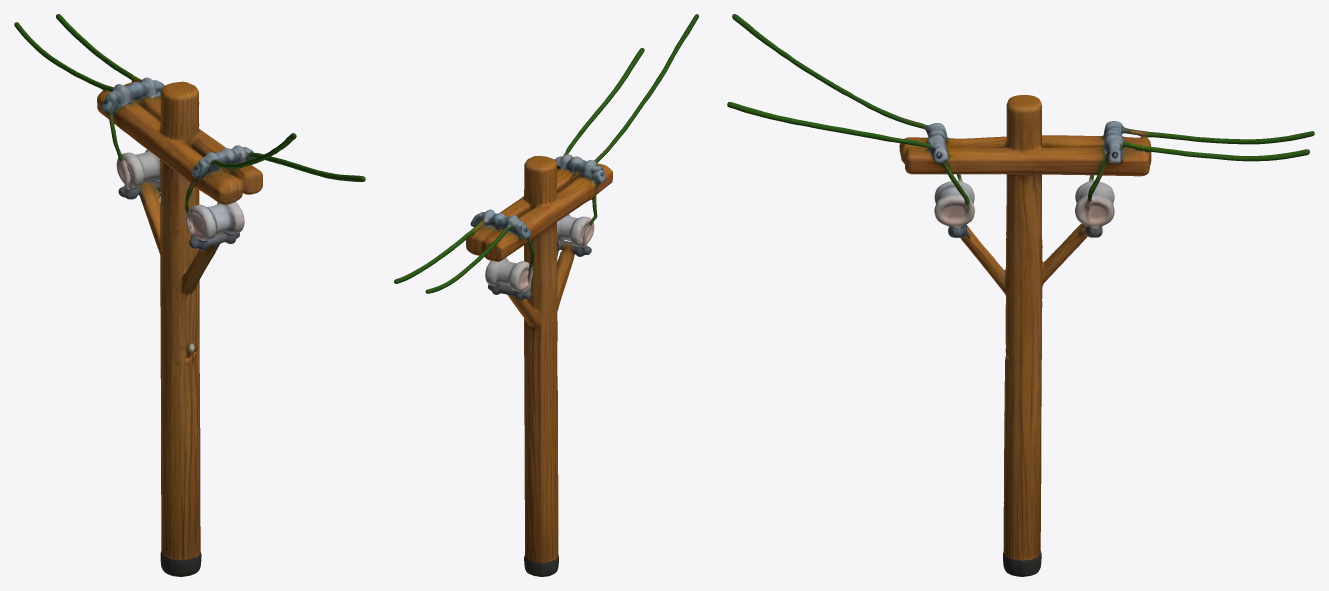
The model's file is power_pole.glb.
3 renders of one model, left to right at view 1: azimuth 30°, elevation 25°; view 2: azimuth 150°, elevation 25°; view 3: azimuth 270°, elevation 25°, orthographic. The views are drawn at different scales.
Visible parts, largest first — view 1: tripo_node_9744f6ce-e2b4-4241-9c4c-b51fede44c8b; view 2: tripo_node_9744f6ce-e2b4-4241-9c4c-b51fede44c8b; view 3: tripo_node_9744f6ce-e2b4-4241-9c4c-b51fede44c8b.
Part boxes in pixels (x1,y1,x2,y2): tripo_node_9744f6ce-e2b4-4241-9c4c-b51fede44c8b: (14,14,365,576); tripo_node_9744f6ce-e2b4-4241-9c4c-b51fede44c8b: (394,14,698,576); tripo_node_9744f6ce-e2b4-4241-9c4c-b51fede44c8b: (727,14,1314,576).
Size of the model in its own units: 0.1279 by 0.9484 by 0.9363.
Materials: 1 (1 with a texture image).
